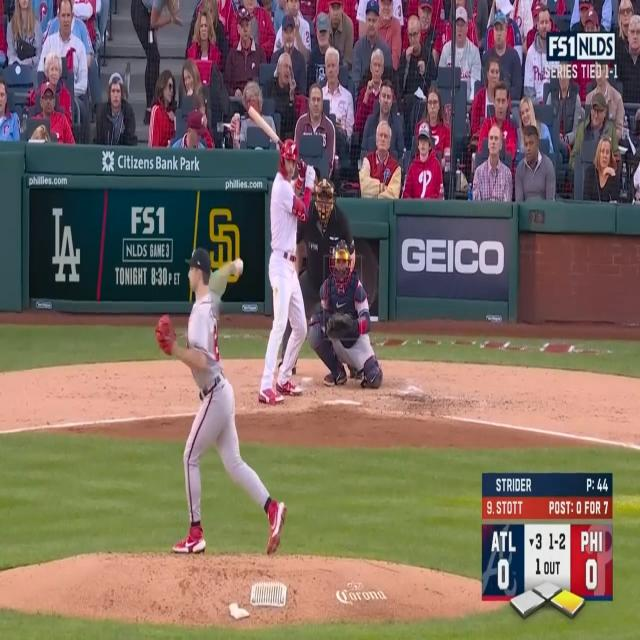baseball: (235, 257, 245, 273)
